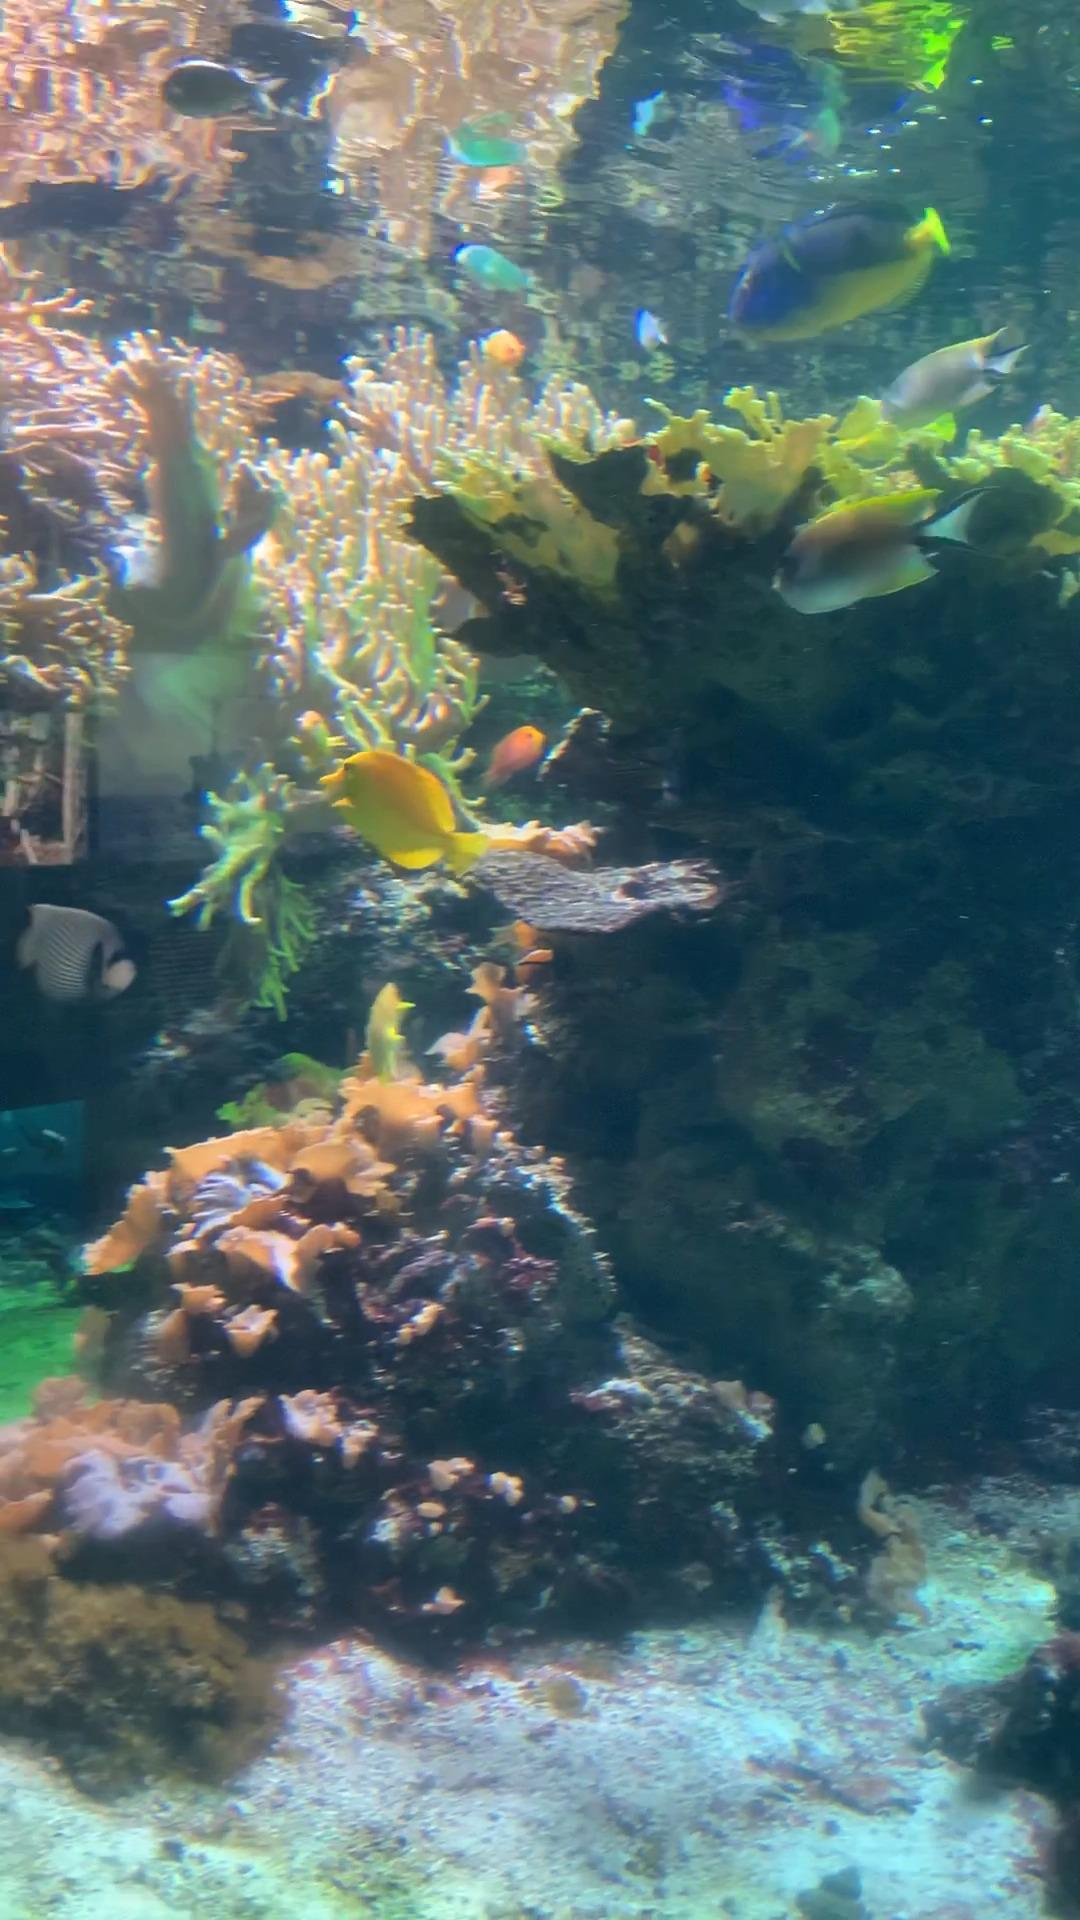fish: (757, 462, 1010, 628), (720, 202, 955, 352), (860, 326, 1050, 448), (318, 752, 488, 878), (12, 901, 136, 1004), (473, 713, 567, 800), (165, 59, 284, 115)
